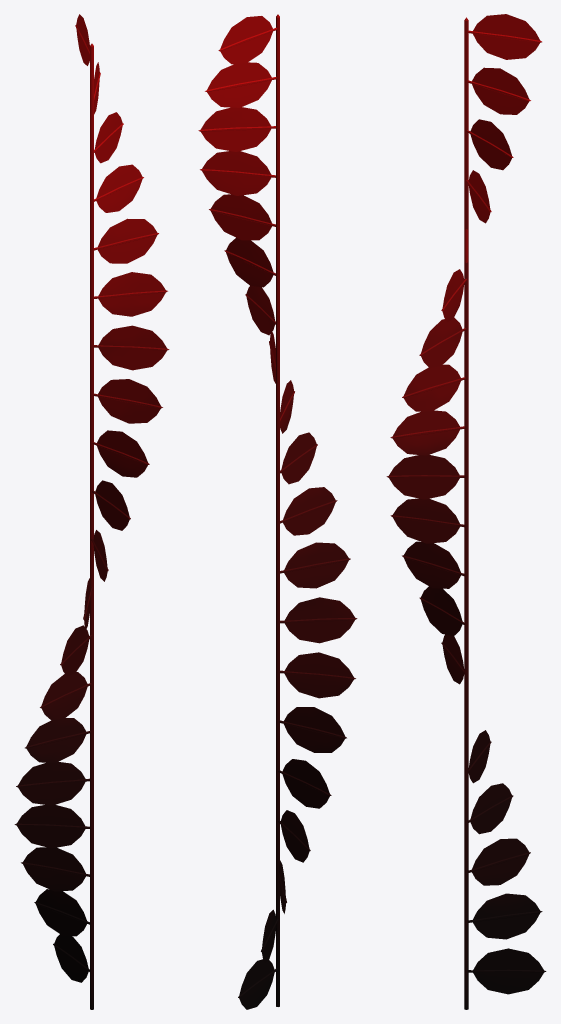
The model's file is SM_Plant_09.FBX.
3 renders of one model, left to right at view 1: azimuth 30°, elevation 25°; view 2: azimuth 150°, elevation 25°; view 3: azimuth 270°, elevation 25°, orthographic. The views are drawn at different scales.
Visible parts, largest first — view 1: plant1; view 2: plant1; view 3: plant1.
Part boxes in pixels (x1,y1,x2,y2): plant1: (14, 14, 169, 1009); plant1: (198, 14, 357, 1009); plant1: (386, 14, 546, 1009).
Size of the model in its own units: 15.28 by 105 by 15.28.
